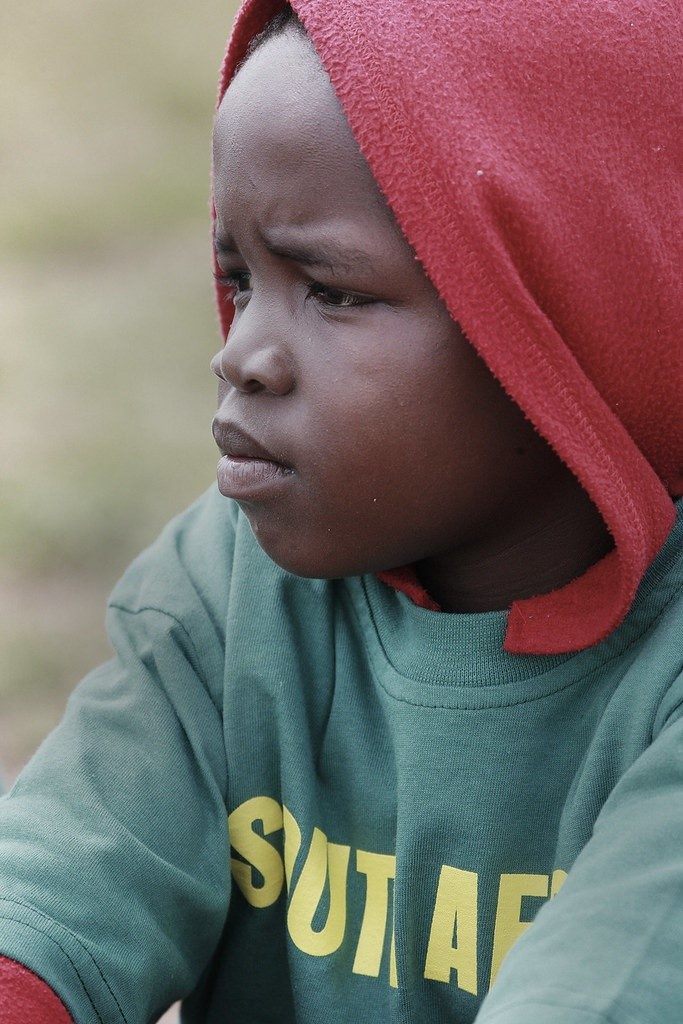face_no_mask: (200, 28, 564, 582)
